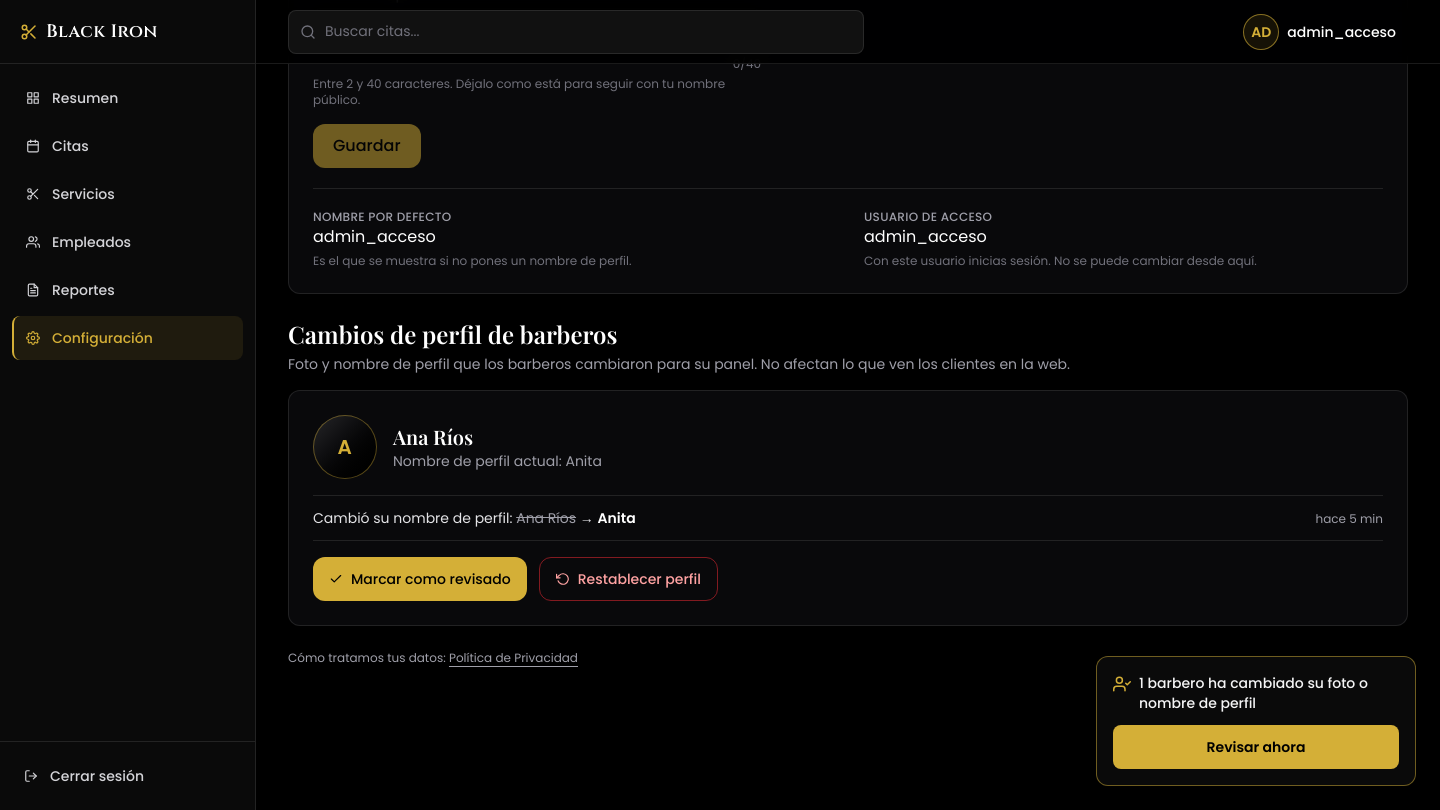
Test case: Vista de revisión en /admin/configuracion › al revisar al último barbero el aviso desaparece y queda "Sin cambios pendientes"
The width and height of the screenshot is (1440, 810).
(page scrolled)
Click the button "Marcar como revisado".
click(420, 579)  # box [313,557,527,601]
(page scrolled)
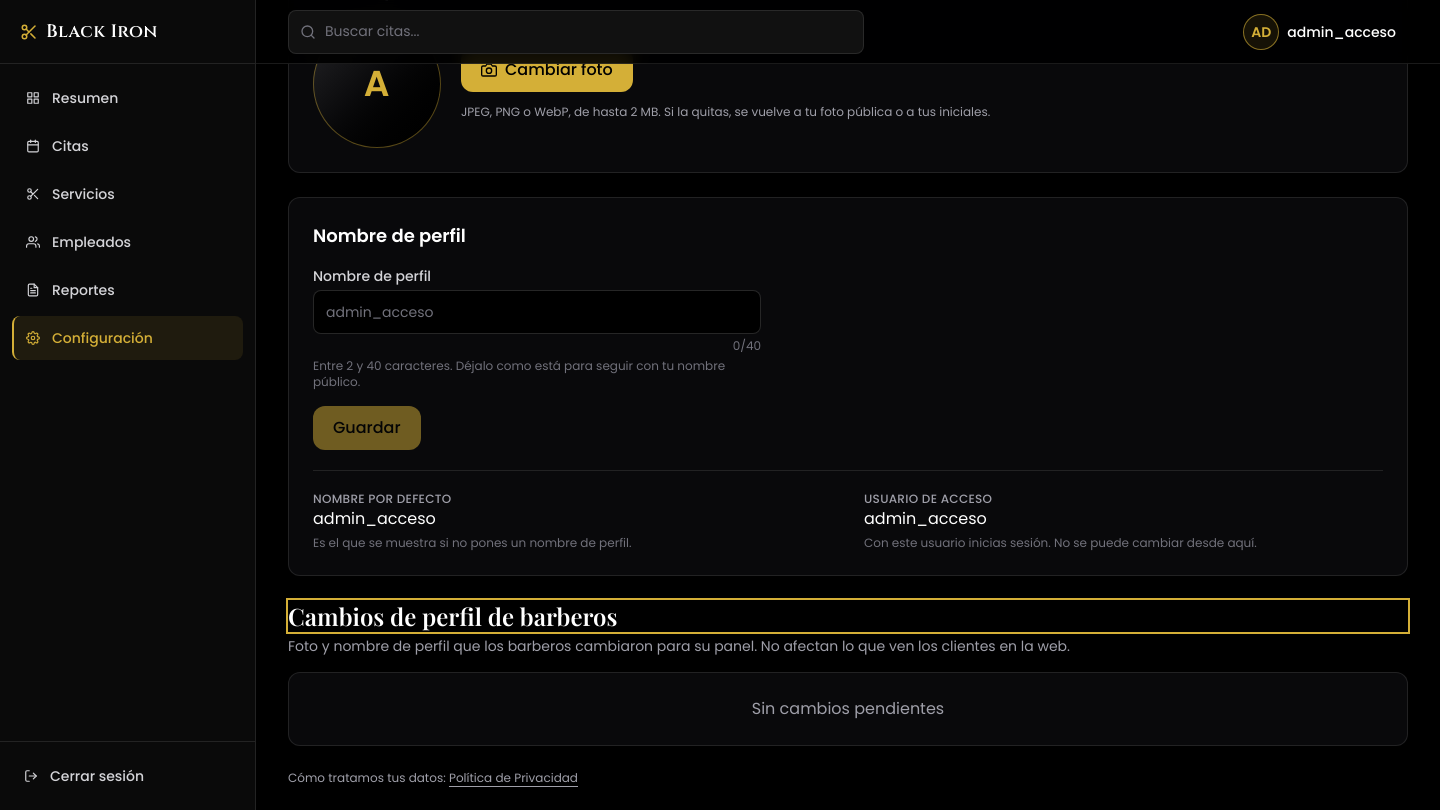
Expected: the text "Sin cambios pendientes" is shown, [288,672,1408,746]
Expected: the text "1 barbero ha cambiado su foto o nombre de perfil" is gone
